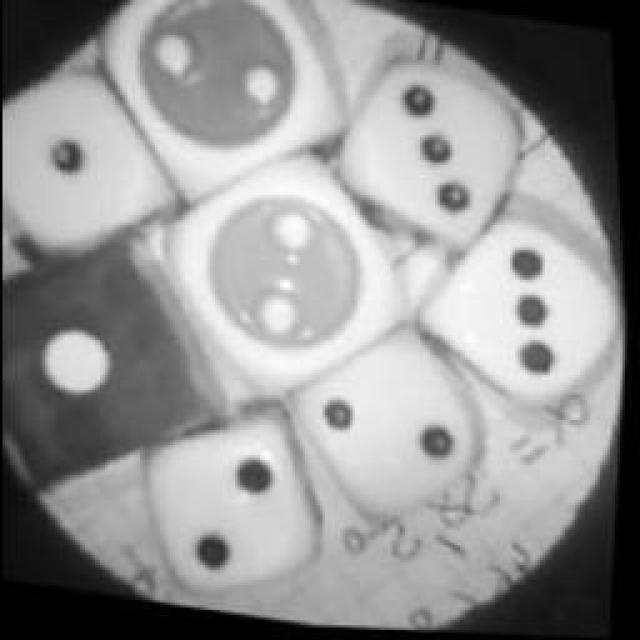dice_1: (0, 228, 250, 528), (0, 68, 198, 282)
dice_2: (148, 146, 434, 422), (98, 0, 372, 220), (278, 315, 504, 540), (129, 400, 339, 610)
dice_3: (410, 204, 632, 428), (327, 51, 545, 261)
